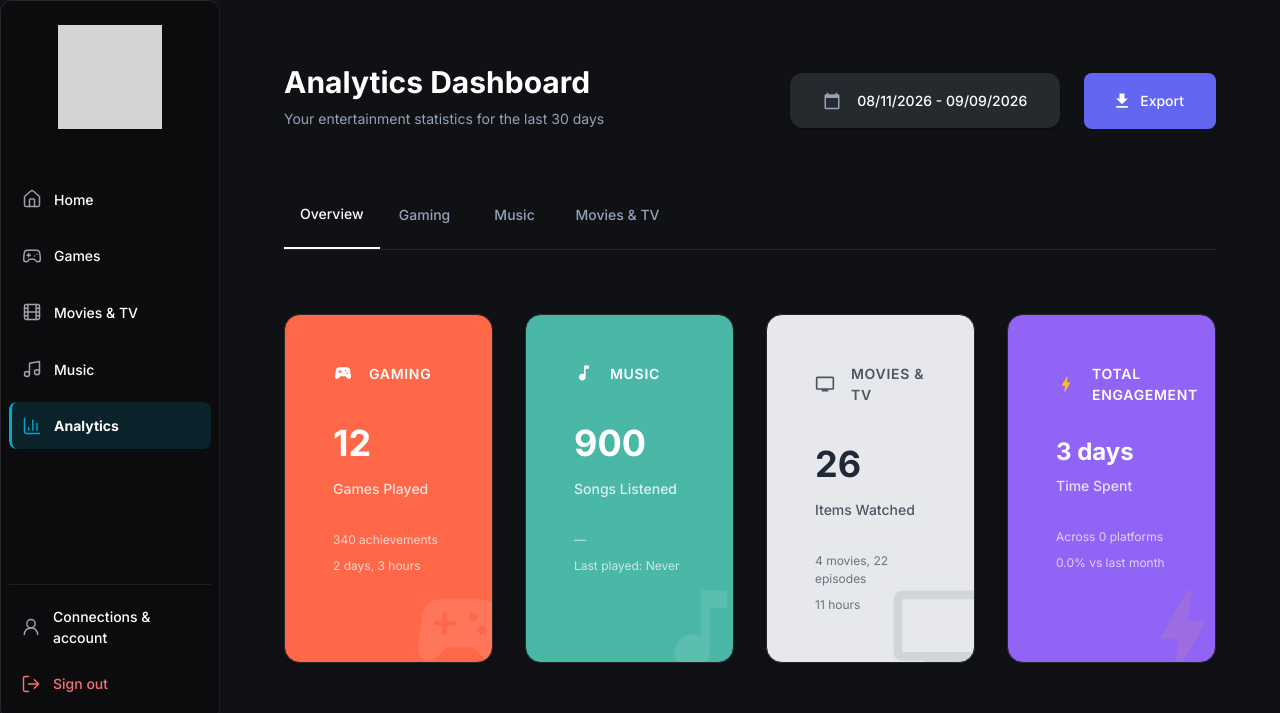
Scenario: AnalyticsPage (audit #2) › renders the Gaming tab from the real API shape (sections at top level)
The width and height of the screenshot is (1280, 713).
Click the tab "Gaming": click(424, 221) [380,193,470,248]
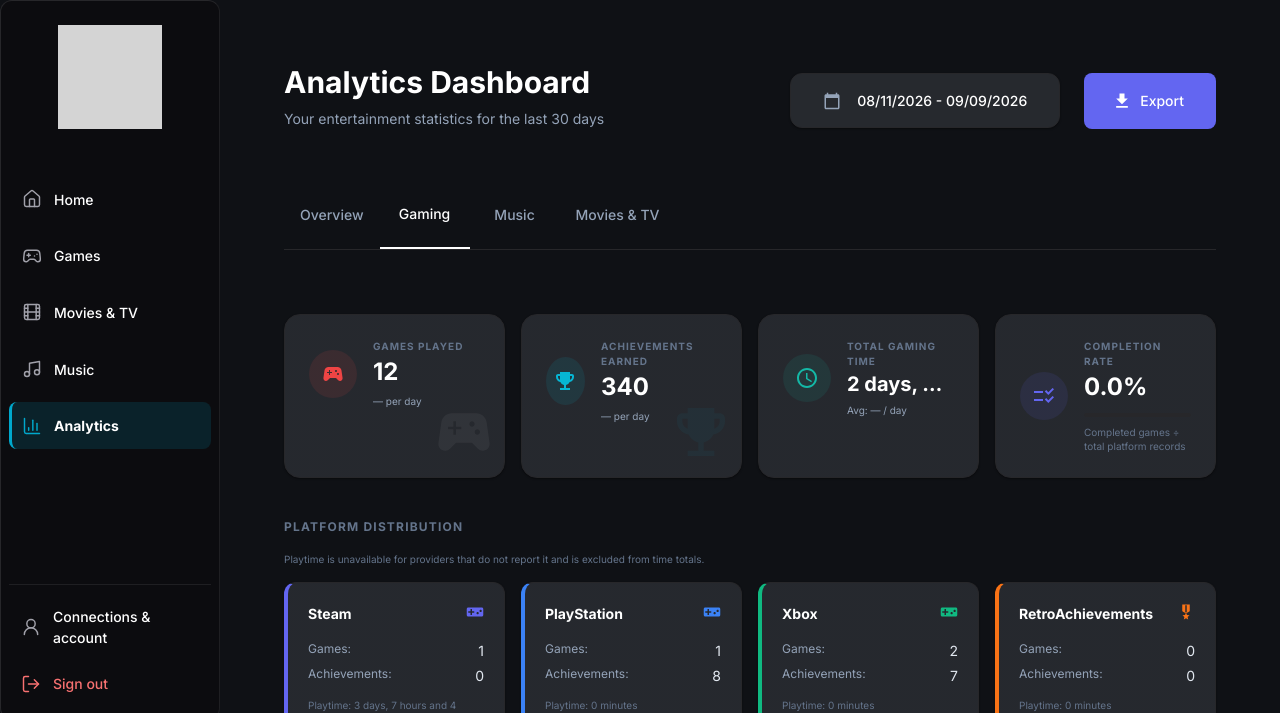
Result: the text "Platform Distribution" is shown at [284,518,463,534]
Result: the text "Steam" is shown at [308,602,352,624]
Result: the text "RetroAchievements" is shown at [1019,602,1153,624]
